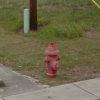Hydrant: (37, 36, 67, 76)
